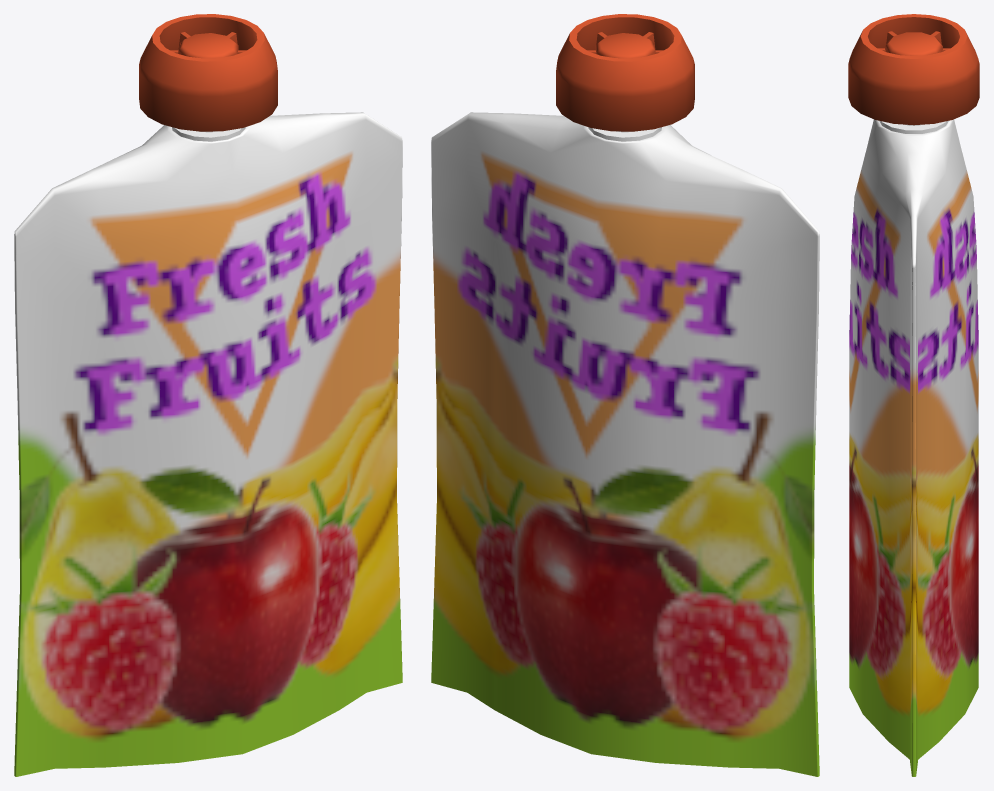
The model's file is Fruit_pouch2.fbx.
3 renders of one model, left to right at view 1: azimuth 30°, elevation 25°; view 2: azimuth 150°, elevation 25°; view 3: azimuth 270°, elevation 25°, orthographic. The views are drawn at different scales.
Parts seen in each view (by area): view 1: Fruit_pouch2; view 2: Fruit_pouch2; view 3: Fruit_pouch2.
Part boxes in pixels (x1=…): Fruit_pouch2: x1=14, y1=14, x2=402, y2=776; Fruit_pouch2: x1=431, y1=14, x2=819, y2=776; Fruit_pouch2: x1=848, y1=14, x2=979, y2=776.
Size of the model in its own units: 13.41 by 22.87 by 4.19.
